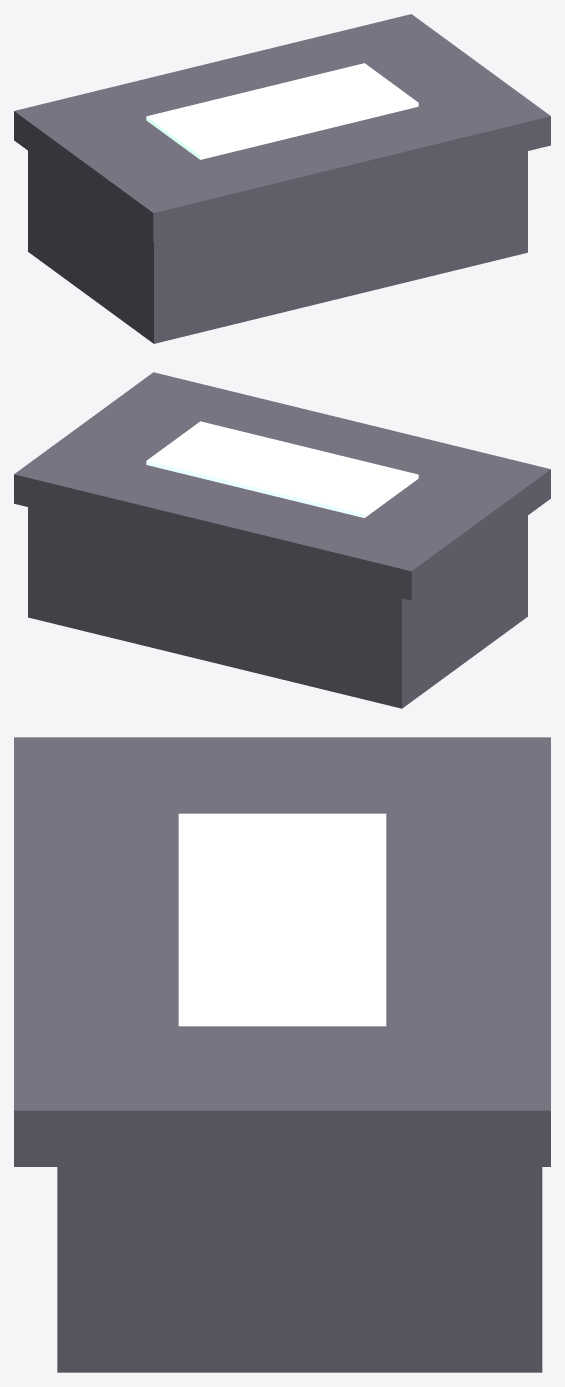
Rendered from undead_crypt_tomb.glb.
3 views of the same model, one above another, from view 1: azimuth 30°, elevation 25°; view 2: azimuth 150°, elevation 25°; view 3: azimuth 270°, elevation 25° (orthographic). The views are drawn at different scales.
Parts seen in each view (by area): view 1: RootNode; view 2: RootNode; view 3: RootNode.
Boxes of the visible parts, x1,y1,x2,y2 form: RootNode: (14, 14, 550, 343); RootNode: (14, 372, 550, 708); RootNode: (14, 737, 550, 1372).
Size of the model in its own units: 2.55 by 0.895 by 1.55.
